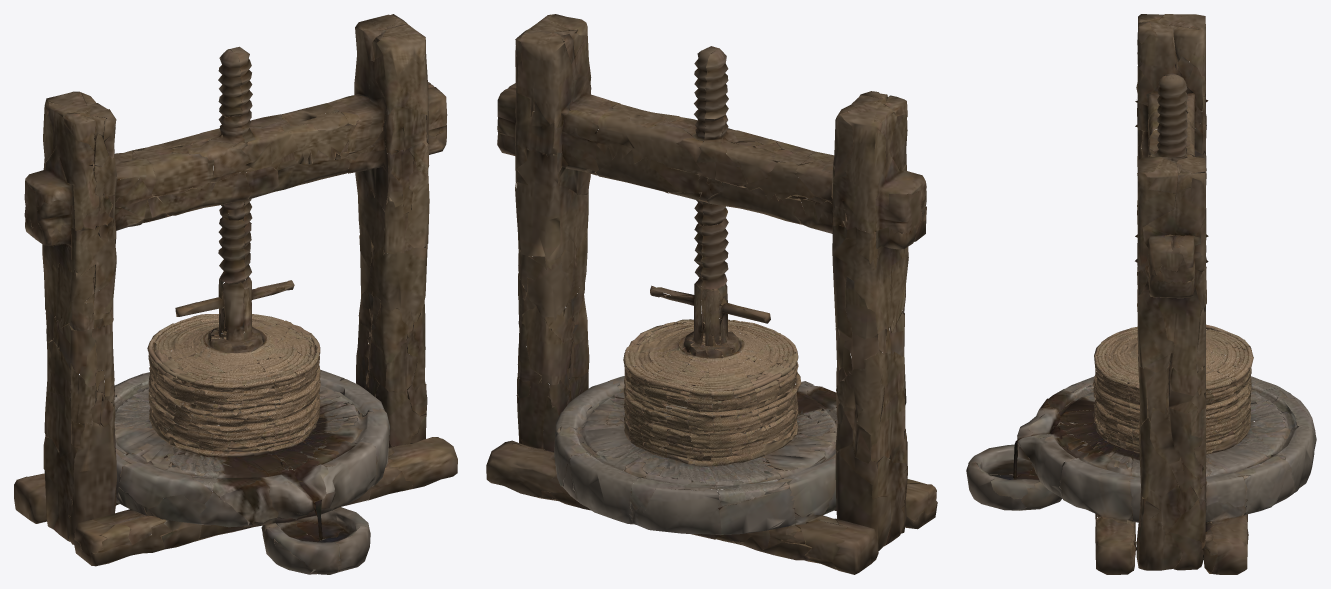
File: olive-press.glb
3 renders of one model, left to right at view 1: azimuth 30°, elevation 25°; view 2: azimuth 150°, elevation 25°; view 3: azimuth 270°, elevation 25°, orthographic. The views are drawn at different scales.
Visible parts, largest first — view 1: Mesh_0; view 2: Mesh_0; view 3: Mesh_0.
Part boxes in pixels (x1,y1,x2,y2): Mesh_0: [14, 14, 457, 574]; Mesh_0: [486, 14, 937, 574]; Mesh_0: [966, 14, 1316, 574].
Bounding box in the file's own units: 2.39 × 2.5 × 1.91.
1 material, 1 textured.
